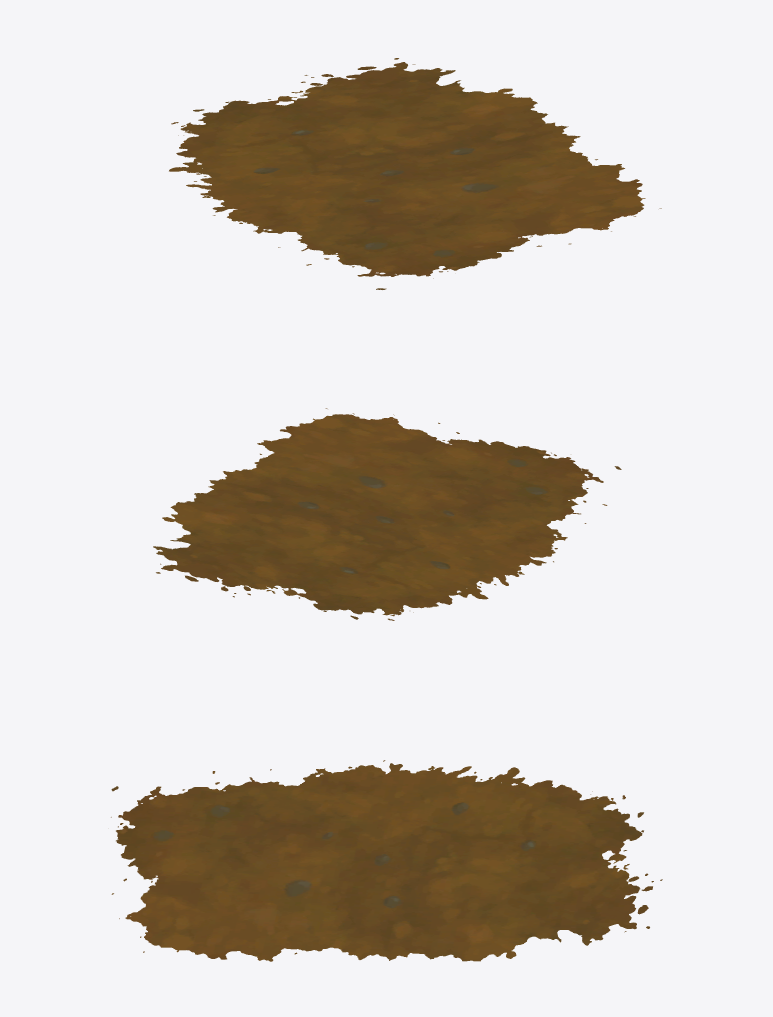
Rendered from z1_riverbed_splat_01.fbx.
3 renders of one model, top to bottom at view 1: azimuth 30°, elevation 25°; view 2: azimuth 150°, elevation 25°; view 3: azimuth 270°, elevation 25°, orthographic. The views are drawn at different scales.
Parts seen in each view (by area): view 1: obj0.112; view 2: obj0.112; view 3: obj0.112.
Boxes of the visible parts, x1,y1,x2,y2 form: obj0.112: (169,58,661,289); obj0.112: (153,408,621,620); obj0.112: (111,760,662,961).
Size of the model in its own units: 8.98 by 1.43e-06 by 9.76.
